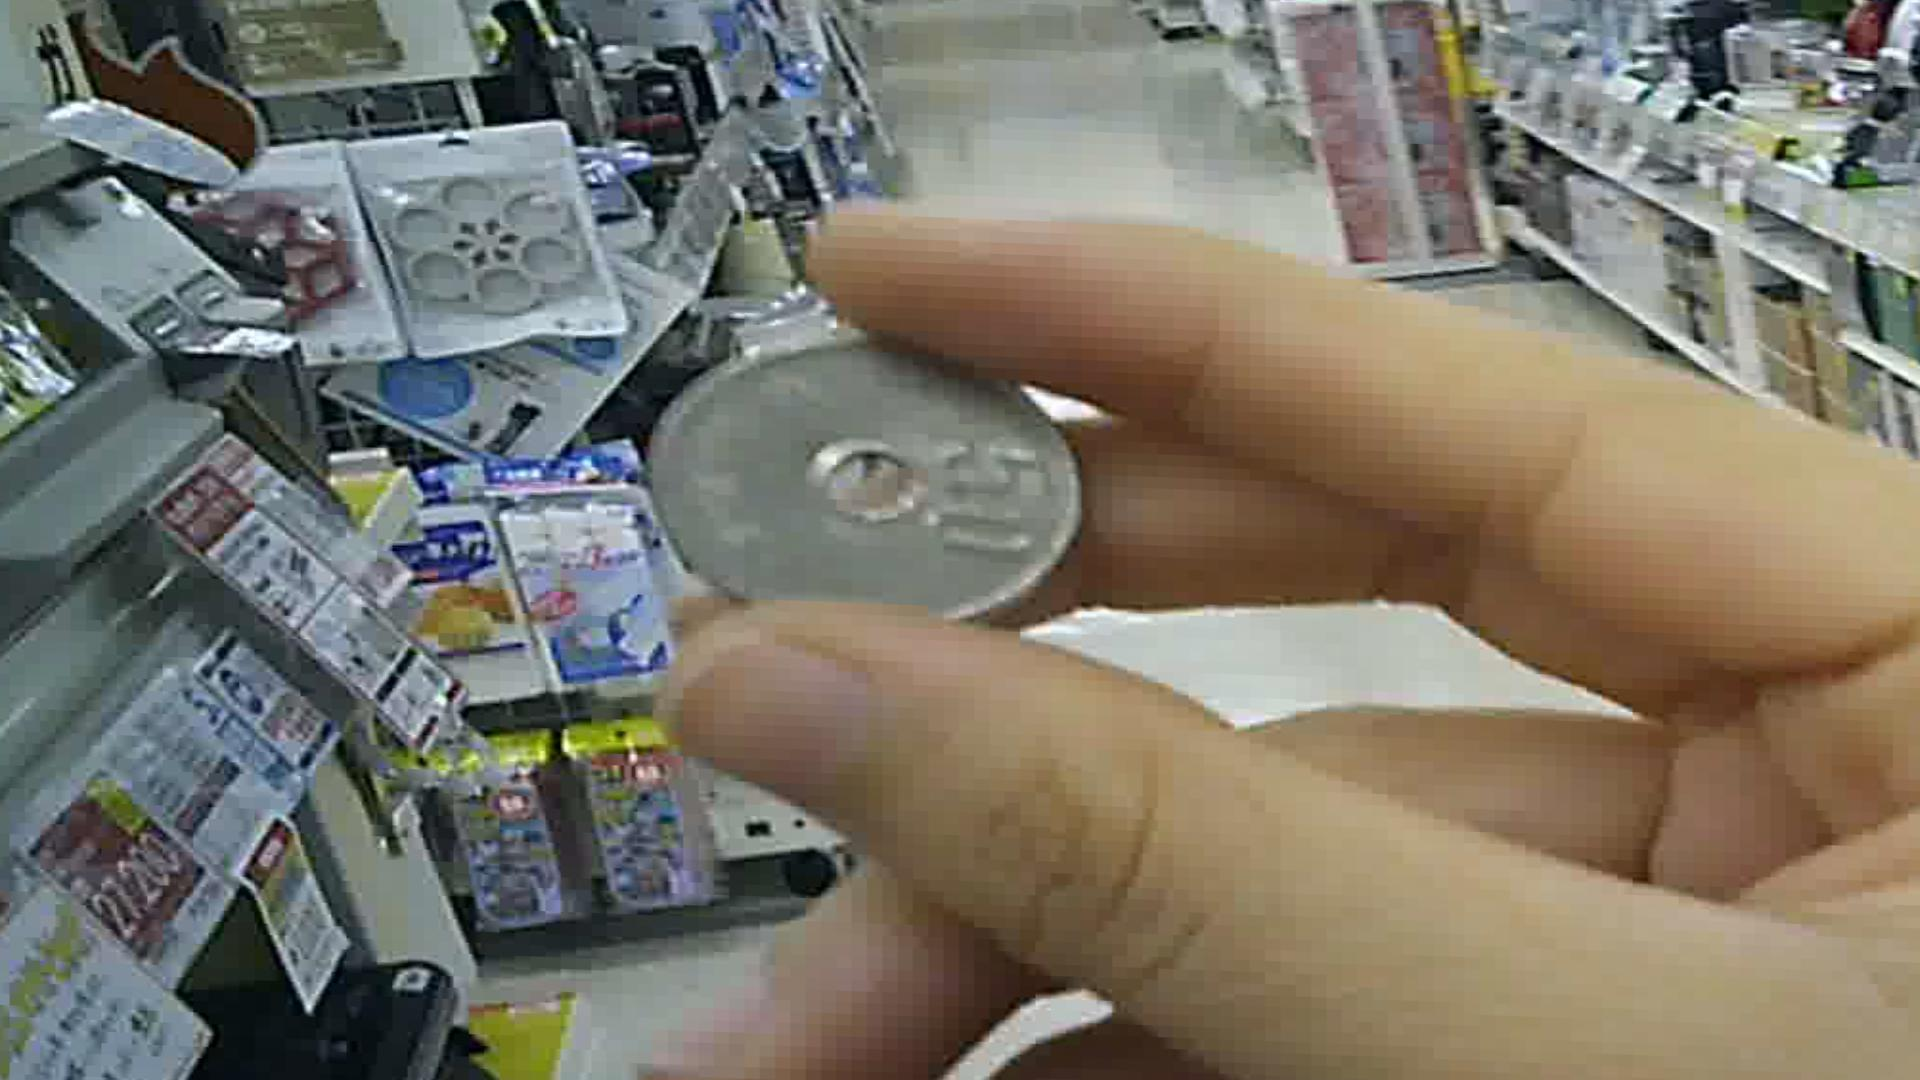50 Yen: (647, 328, 1106, 633)
